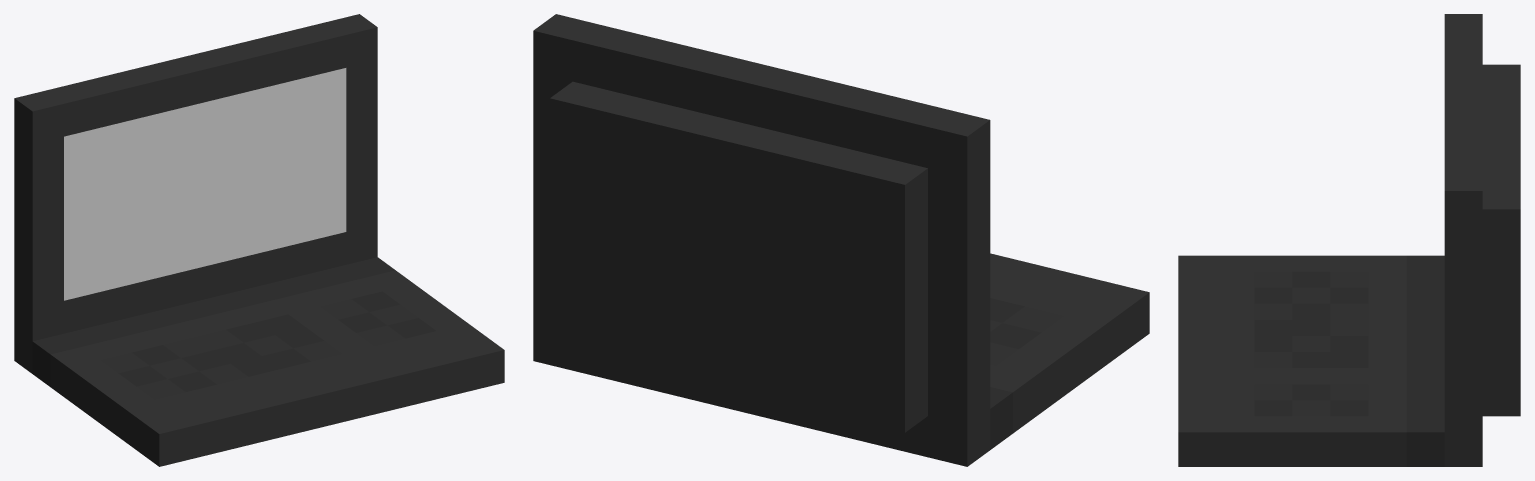
File: Decor-15.obj
3 renders of one model, left to right at view 1: azimuth 30°, elevation 25°; view 2: azimuth 150°, elevation 25°; view 3: azimuth 270°, elevation 25°, orthographic. The views are drawn at different scales.
Bounding box in the file's own units: 1.1 × 0.8 × 0.9.
1 material, 1 textured.
